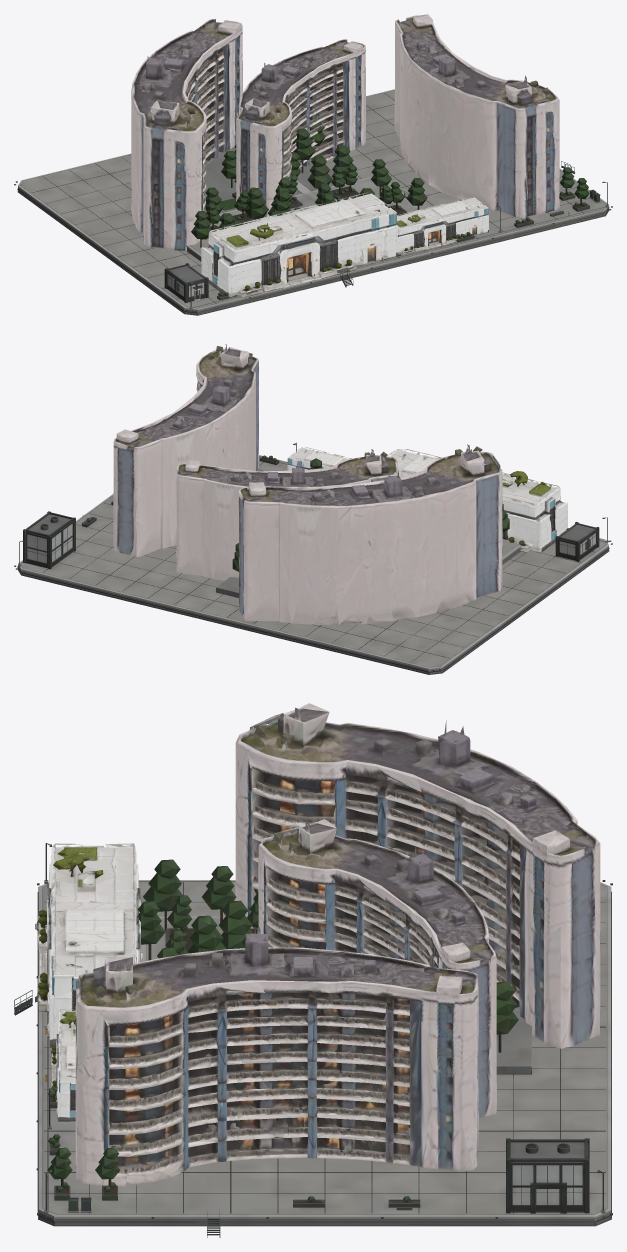
The model's file is residence.lite.glb.
The picture shows the model from 3 angles, top to bottom: view 1: azimuth 30°, elevation 25°; view 2: azimuth 150°, elevation 25°; view 3: azimuth 270°, elevation 25°; orthographic projection. The views are drawn at different scales.
Visible parts, largest first — view 1: parts_colony-curvedTerrace, hull, parts_colony-podiumSegment; view 2: parts_colony-curvedTerrace, hull, parts_colony-podiumSegment; view 3: parts_colony-curvedTerrace, hull, parts_colony-podiumSegment.
Part boxes in pixels (left/top/right/bottom): parts_colony-curvedTerrace: left=131, top=14, right=559, bottom=251; hull: left=14, top=89, right=612, bottom=315; parts_colony-podiumSegment: left=201, top=192, right=488, bottom=297; parts_colony-curvedTerrace: left=113, top=344, right=502, bottom=624; hull: left=14, top=442, right=612, bottom=674; parts_colony-podiumSegment: left=287, top=447, right=567, bottom=552; parts_colony-curvedTerrace: left=75, top=703, right=600, bottom=1186; hull: left=14, top=843, right=612, bottom=1237; parts_colony-podiumSegment: left=35, top=843, right=142, bottom=1121.
Bounding box in the file's own units: 103 × 33.68 × 75.27.
Materials: 4 (4 with a texture image).
